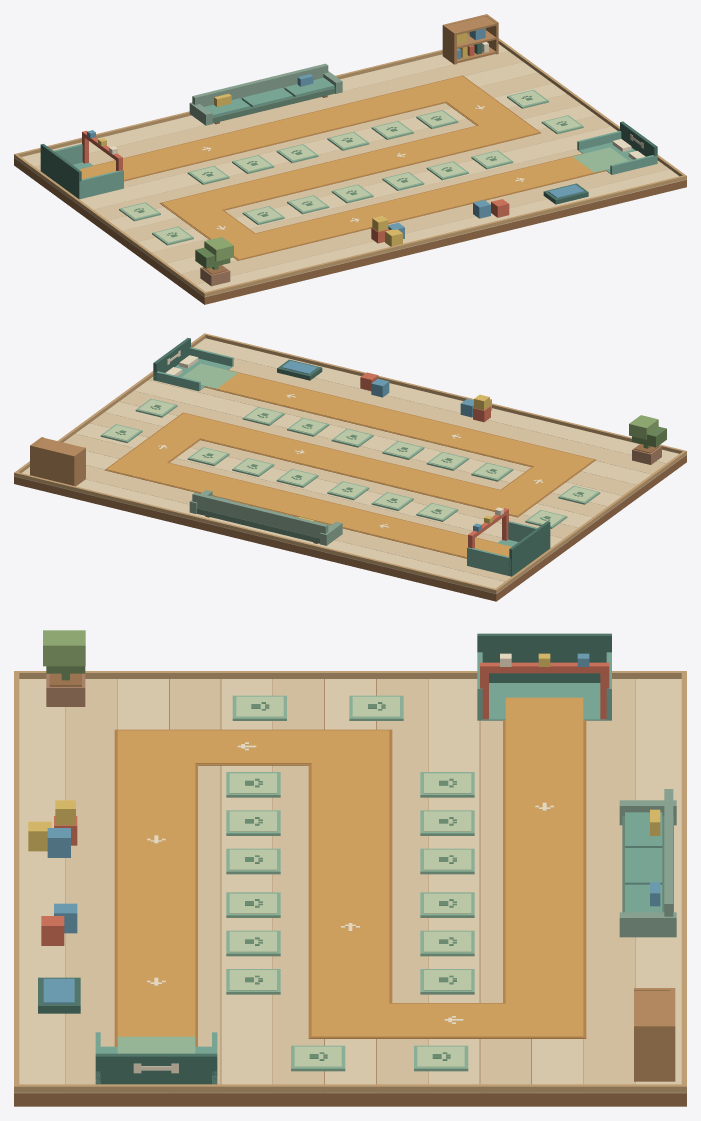
Rendered from Pupsters_Block_Playroom_Map.obj.
3 renders of one model, top to bottom at view 1: azimuth 30°, elevation 25°; view 2: azimuth 150°, elevation 25°; view 3: azimuth 270°, elevation 25°, orthographic. The views are drawn at different scales.
Visible parts, largest first — view 1: Road05, Road06, Road07, FloorPlank01, MapBase, FloorPlank11, FloorPlank12, FloorPlank05, FloorPlank07, FloorPlank08, FloorPlank04, FloorPlank03 (+31 smaller); view 2: Road06, Road07, Road05, FloorPlank11, MapBase, FloorPlank12, FloorPlank07, FloorPlank00, FloorPlank05, FloorPlank08, FloorPlank01, FloorPlank09 (+31 smaller); view 3: Road05, Road06, Road07, FloorPlank11, FloorPlank01, FloorPlank12, FloorPlank05, FloorPlank07, MapBase, FloorPlank08, FloorPlank04, FloorPlank00 (+56 smaller).
Part boxes in pixels (x1,y1,x2,y2): Road05: [145, 85, 445, 169]; Road06: [200, 125, 500, 209]; Road07: [255, 166, 555, 250]; FloorPlank01: [28, 51, 522, 178]; MapBase: [14, 158, 686, 304]; FloorPlank11: [175, 160, 669, 286]; FloorPlank12: [190, 169, 686, 297]; FloorPlank05: [87, 94, 581, 221]; FloorPlank07: [117, 115, 610, 243]; FloorPlank08: [131, 126, 617, 254]; FloorPlank04: [73, 83, 566, 211]; FloorPlank03: [58, 72, 551, 200]; Road06: [200, 422, 500, 506]; Road07: [255, 382, 555, 466]; Road05: [145, 462, 445, 546]; FloorPlank11: [229, 358, 672, 475]; MapBase: [14, 455, 686, 601]; FloorPlank12: [193, 338, 686, 465]; FloorPlank07: [119, 391, 613, 518]; FloorPlank00: [14, 467, 510, 594]; FloorPlank05: [90, 412, 583, 540]; FloorPlank08: [134, 380, 628, 507]; FloorPlank01: [86, 465, 525, 583]; FloorPlank09: [148, 377, 642, 497]; Road05: [505, 763, 583, 1003]; Road06: [311, 763, 389, 1003]; Road07: [117, 763, 195, 1003]; FloorPlank11: [66, 679, 117, 1093]; FloorPlank01: [583, 679, 634, 1093]; FloorPlank12: [14, 679, 65, 1093]; FloorPlank05: [376, 679, 427, 1093]; FloorPlank07: [273, 679, 324, 1093]; MapBase: [14, 679, 686, 1106]; FloorPlank08: [221, 679, 272, 1093]; FloorPlank04: [428, 679, 479, 1093]; FloorPlank00: [635, 679, 686, 1093].
Bounding box in the file's own units: 76 × 6.63 × 52.
